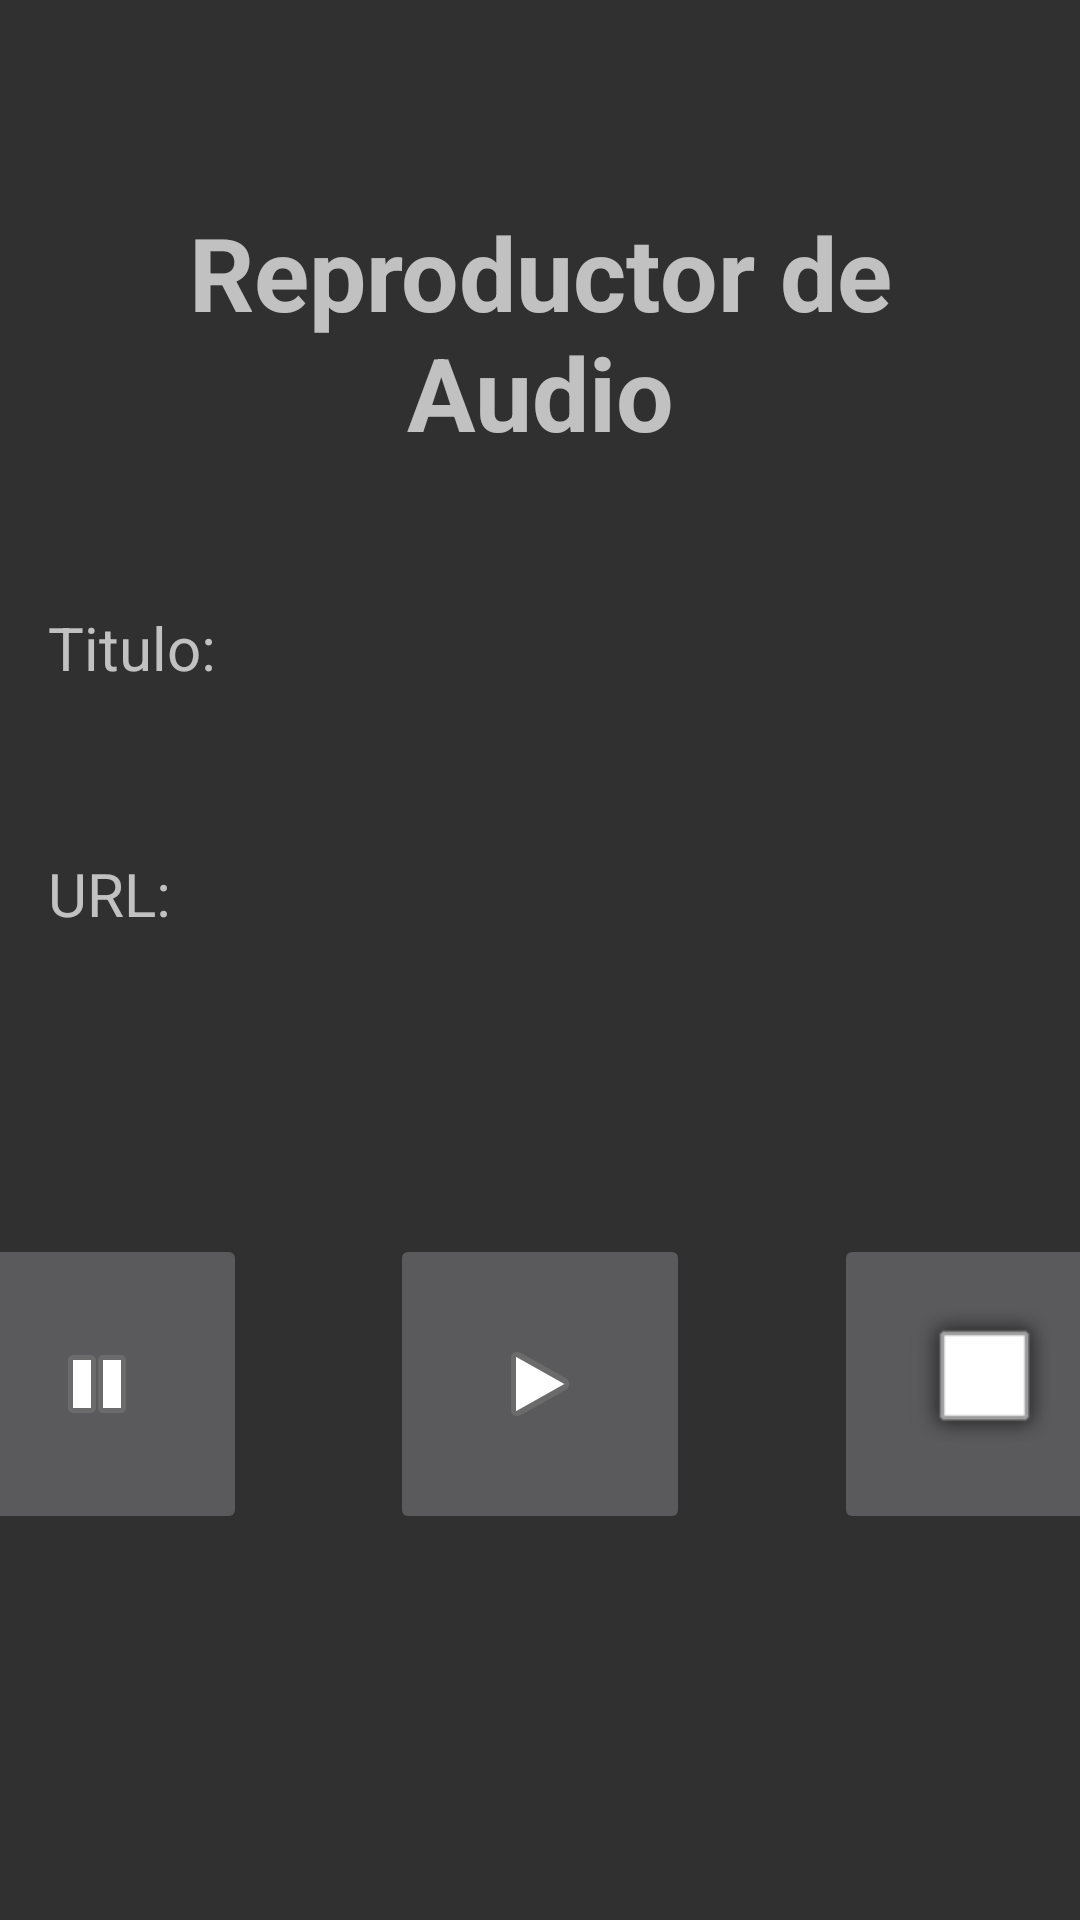

Locate icon controls on the screen. Image size 1080*1920, boxes as {"left": x1, "top": y1, "right": x2, "bottom": y2}.
play: {"left": 402, "top": 1252, "right": 678, "bottom": 1516}
